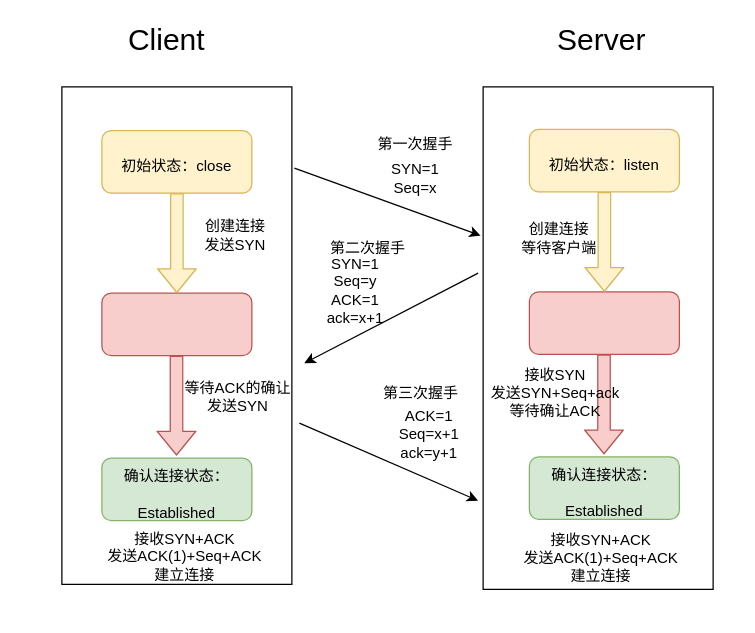
Some shapes in this 755 by 633 pixel diagram are drawn without their labels. Each missing label, with the centre of its shape:
"发送等待状态： SYN_send" goes at pixel 176 324.
"确让接收状态： SYN_receiveed" goes at pixel 603 322.
